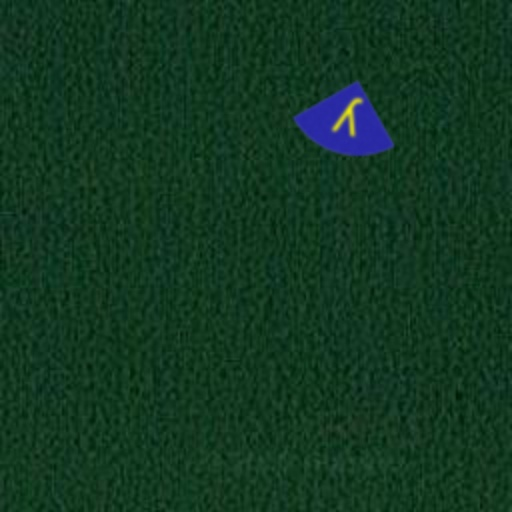quarter_circle: (284, 62, 408, 186)
